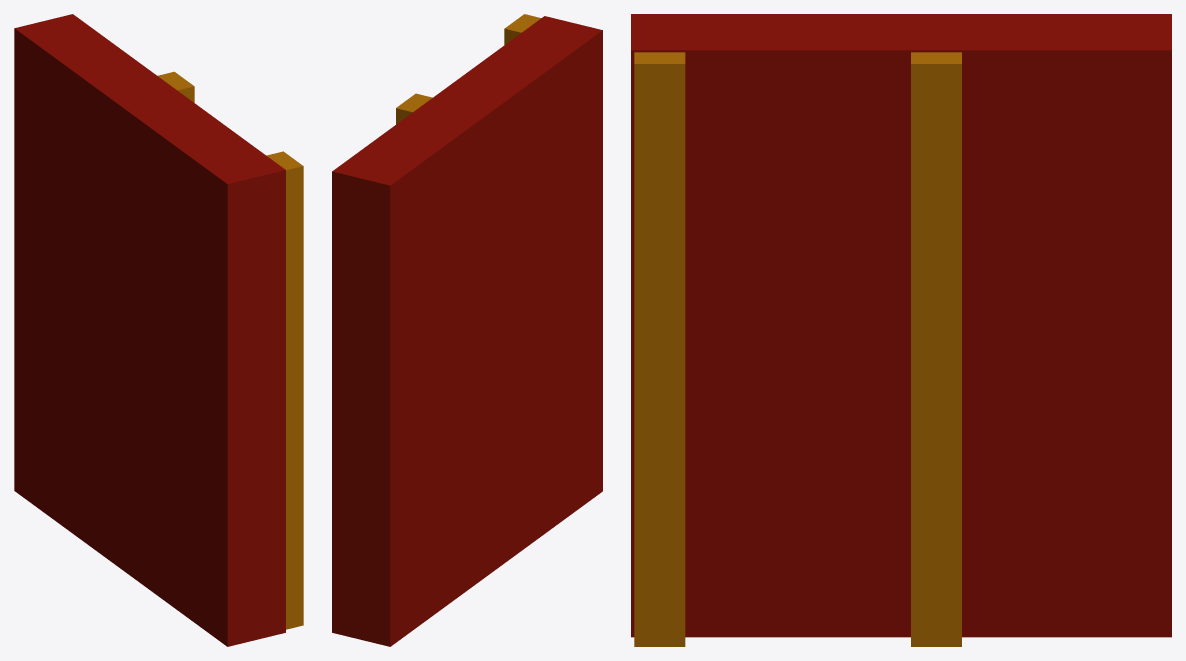
The model's file is Wall.fbx.
3 views of the same model, side by side, from view 1: azimuth 30°, elevation 25°; view 2: azimuth 150°, elevation 25°; view 3: azimuth 270°, elevation 25° (orthographic). The views are drawn at different scales.
Parts seen in each view (by area): view 1: Wall.001, Beam2, Beam1; view 2: Wall.001, Beam2, Beam1; view 3: Wall.001, Beam2, Beam1.
Boxes of the visible parts, x1,y1,x2,y2 form: Wall.001: (14,14,285,646); Beam2: (266,151,303,629); Beam1: (157,71,194,102); Wall.001: (332,16,602,646); Beam2: (504,14,541,44); Beam1: (396,93,432,124); Wall.001: (631,14,1171,637); Beam2: (634,52,685,646); Beam1: (911,52,961,646).
Bounding box in the file's own units: 37.8 × 216 × 181.
